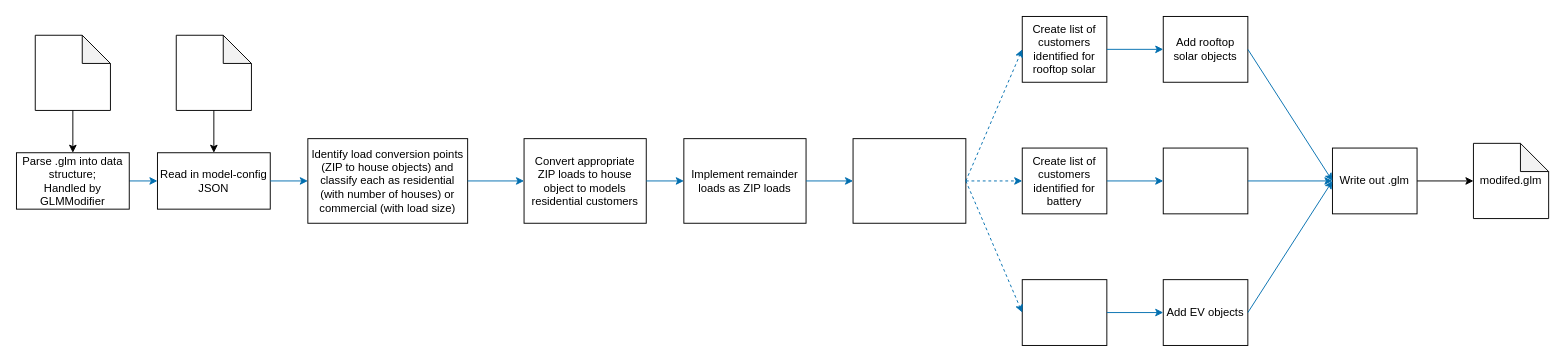
The diagram is 1565 pixels wide and 362 high, and some of its shapes have lost their labels. Each missing label, with the box of its shape:
Add battery objects: (1162, 147, 1248, 214)
config.json5: (175, 34, 251, 110)
Convert appropriate ZIP loads to house objects to model commercial customers: (852, 138, 966, 223)
Create list of customers identified for EVs: (1021, 279, 1107, 345)
original.glm: (34, 34, 110, 110)
